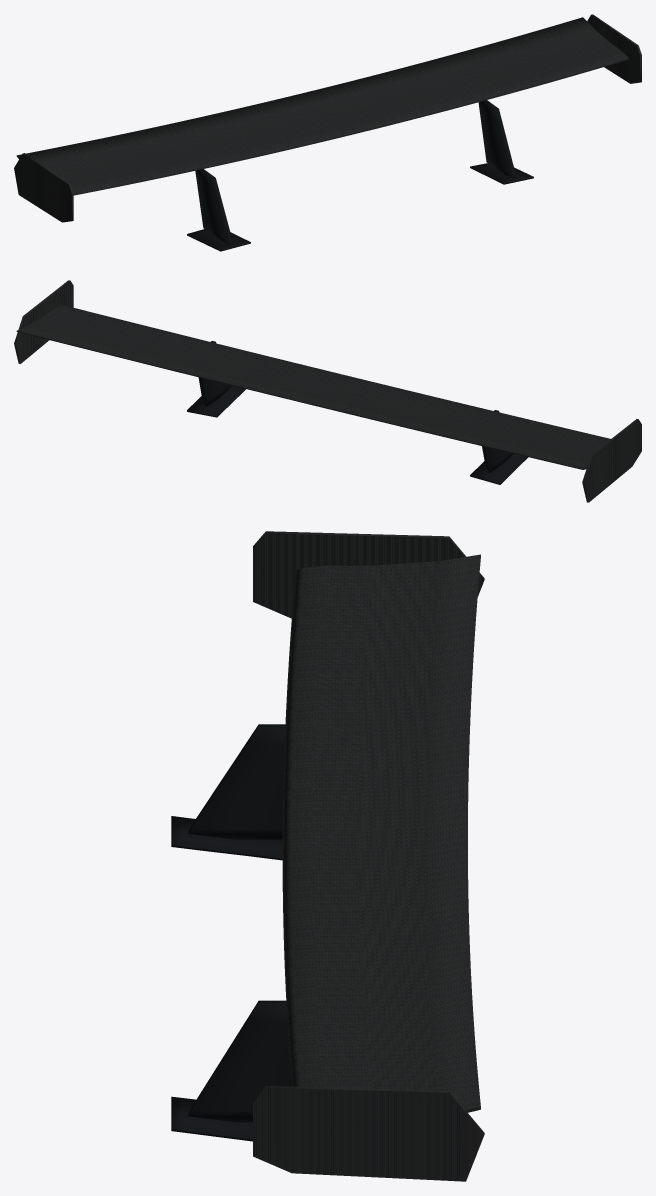
Rendered from RA51_low_wing.glb.
3 views of the same model, one above another, from view 1: azimuth 30°, elevation 25°; view 2: azimuth 150°, elevation 25°; view 3: azimuth 270°, elevation 25° (orthographic). The views are drawn at different scales.
Visible parts, largest first — view 1: MOD_NA_RA51_airfoil, MOD_NA_RA51_endplate_R, MOD_NA_RA51_upright_L, MOD_NA_RA51_upright_R, MOD_NA_RA51_endplate_L, MOD_NA_RA51_foot_R, MOD_NA_RA51_foot_L; view 2: MOD_NA_RA51_airfoil, MOD_NA_RA51_endplate_R, MOD_NA_RA51_endplate_L, MOD_NA_RA51_foot_R, MOD_NA_RA51_foot_L, MOD_NA_RA51_upright_L, MOD_NA_RA51_upright_R; view 3: MOD_NA_RA51_airfoil, MOD_NA_RA51_endplate_L, MOD_NA_RA51_endplate_R, MOD_NA_RA51_upright_R, MOD_NA_RA51_upright_L, MOD_NA_RA51_foot_R, MOD_NA_RA51_foot_L.
Boxes of the visible parts, bbox=[...] form: MOD_NA_RA51_airfoil: bbox=[16, 17, 629, 195]; MOD_NA_RA51_endplate_R: bbox=[14, 153, 73, 222]; MOD_NA_RA51_upright_L: bbox=[478, 100, 516, 178]; MOD_NA_RA51_upright_R: bbox=[195, 169, 233, 244]; MOD_NA_RA51_endplate_L: bbox=[587, 14, 641, 83]; MOD_NA_RA51_foot_R: bbox=[187, 229, 250, 251]; MOD_NA_RA51_foot_L: bbox=[470, 163, 533, 184]; MOD_NA_RA51_airfoil: bbox=[16, 304, 610, 469]; MOD_NA_RA51_endplate_R: bbox=[582, 419, 641, 502]; MOD_NA_RA51_endplate_L: bbox=[14, 280, 73, 363]; MOD_NA_RA51_foot_R: bbox=[470, 454, 528, 484]; MOD_NA_RA51_foot_L: bbox=[187, 385, 245, 417]; MOD_NA_RA51_upright_L: bbox=[198, 341, 231, 406]; MOD_NA_RA51_upright_R: bbox=[482, 410, 513, 472]; MOD_NA_RA51_airfoil: bbox=[282, 554, 480, 1112]; MOD_NA_RA51_endplate_L: bbox=[253, 1086, 484, 1181]; MOD_NA_RA51_endplate_R: bbox=[253, 531, 484, 618]; MOD_NA_RA51_upright_R: bbox=[188, 724, 285, 839]; MOD_NA_RA51_upright_L: bbox=[188, 1000, 291, 1122]; MOD_NA_RA51_foot_R: bbox=[171, 816, 282, 860]; MOD_NA_RA51_foot_L: bbox=[171, 1096, 252, 1141].
Size of the model in its own units: 1.21 by 0.1883 by 0.2873.
Materials: 2 (1 with a texture image).
